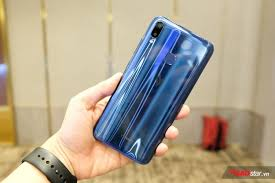vsmart: (91, 12, 214, 168)
